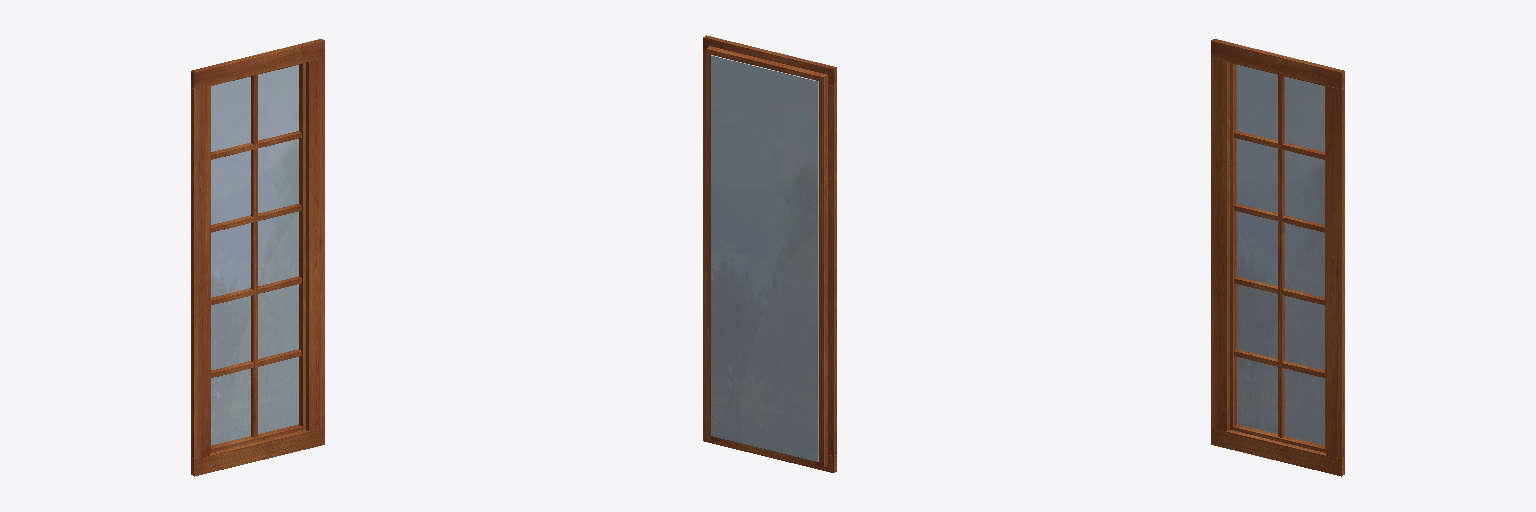
The picture shows the model from 3 angles: view 1: azimuth 30°, elevation 25°; view 2: azimuth 150°, elevation 25°; view 3: azimuth 330°, elevation 25°; orthographic projection.
Parts seen in each view (by area): view 1: glass, trim_left, trim_right, trim_top, trim_bottom, window_right, muttin000, muttin_horizontal001, muttin_horizontal002, muttin_horizontal003, muttin_horizontal004, window_bottom; view 2: glass, window_left, trim_left, window_right, trim_top, trim_right, window_top, trim_bottom; view 3: glass, trim_right, trim_left, trim_top, trim_bottom, window_left, muttin000, muttin_horizontal001, muttin_horizontal002, muttin_horizontal004, muttin_horizontal003, window_bottom.
Boxes of the visible parts, <box> form: glass: <box>211,65,298,445</box>; trim_left: <box>191,86,209,458</box>; trim_right: <box>306,58,324,430</box>; trim_top: <box>191,39,324,88</box>; trim_bottom: <box>191,428,324,476</box>; window_right: <box>299,62,305,429</box>; muttin000: <box>251,75,257,437</box>; muttin_horizontal001: <box>211,131,301,159</box>; muttin_horizontal002: <box>211,204,301,232</box>; muttin_horizontal003: <box>211,276,301,304</box>; muttin_horizontal004: <box>211,349,301,377</box>; window_bottom: <box>211,424,302,452</box>; glass: <box>711,55,818,461</box>; window_left: <box>811,72,827,467</box>; trim_left: <box>828,85,836,455</box>; window_right: <box>706,46,722,441</box>; trim_top: <box>703,35,836,85</box>; trim_right: <box>703,54,705,424</box>; window_top: <box>719,49,813,78</box>; trim_bottom: <box>703,424,836,472</box>; glass: <box>1237,65,1324,445</box>; trim_right: <box>1326,86,1344,458</box>; trim_left: <box>1211,58,1229,430</box>; trim_top: <box>1211,39,1344,88</box>; trim_bottom: <box>1211,428,1344,476</box>; window_left: <box>1230,62,1236,429</box>; muttin000: <box>1278,75,1284,437</box>; muttin_horizontal001: <box>1234,131,1324,159</box>; muttin_horizontal002: <box>1234,204,1324,232</box>; muttin_horizontal004: <box>1234,349,1324,377</box>; muttin_horizontal003: <box>1234,276,1324,304</box>; window_bottom: <box>1233,424,1324,452</box>.
Size of the model in its own units: 20 by 59.02 by 1.92.
Materials: 6 (6 with a texture image).